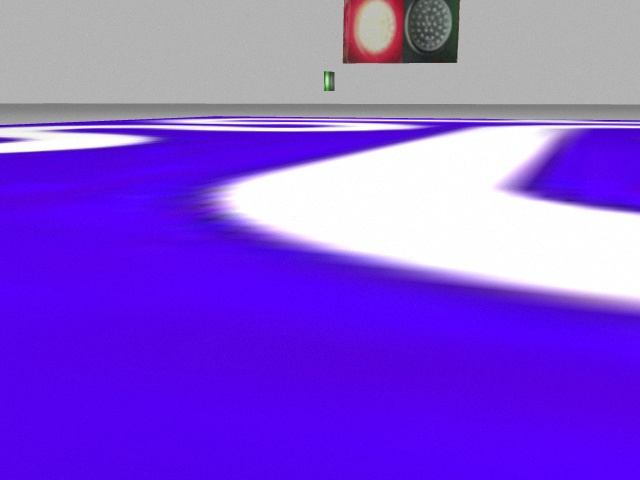red: (346, 1, 401, 60)
